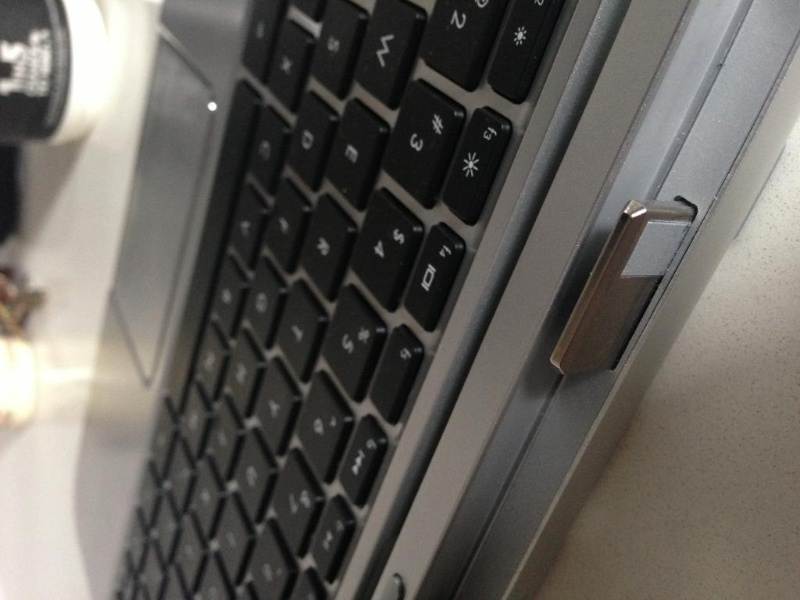laptop: (59, 6, 698, 600)
